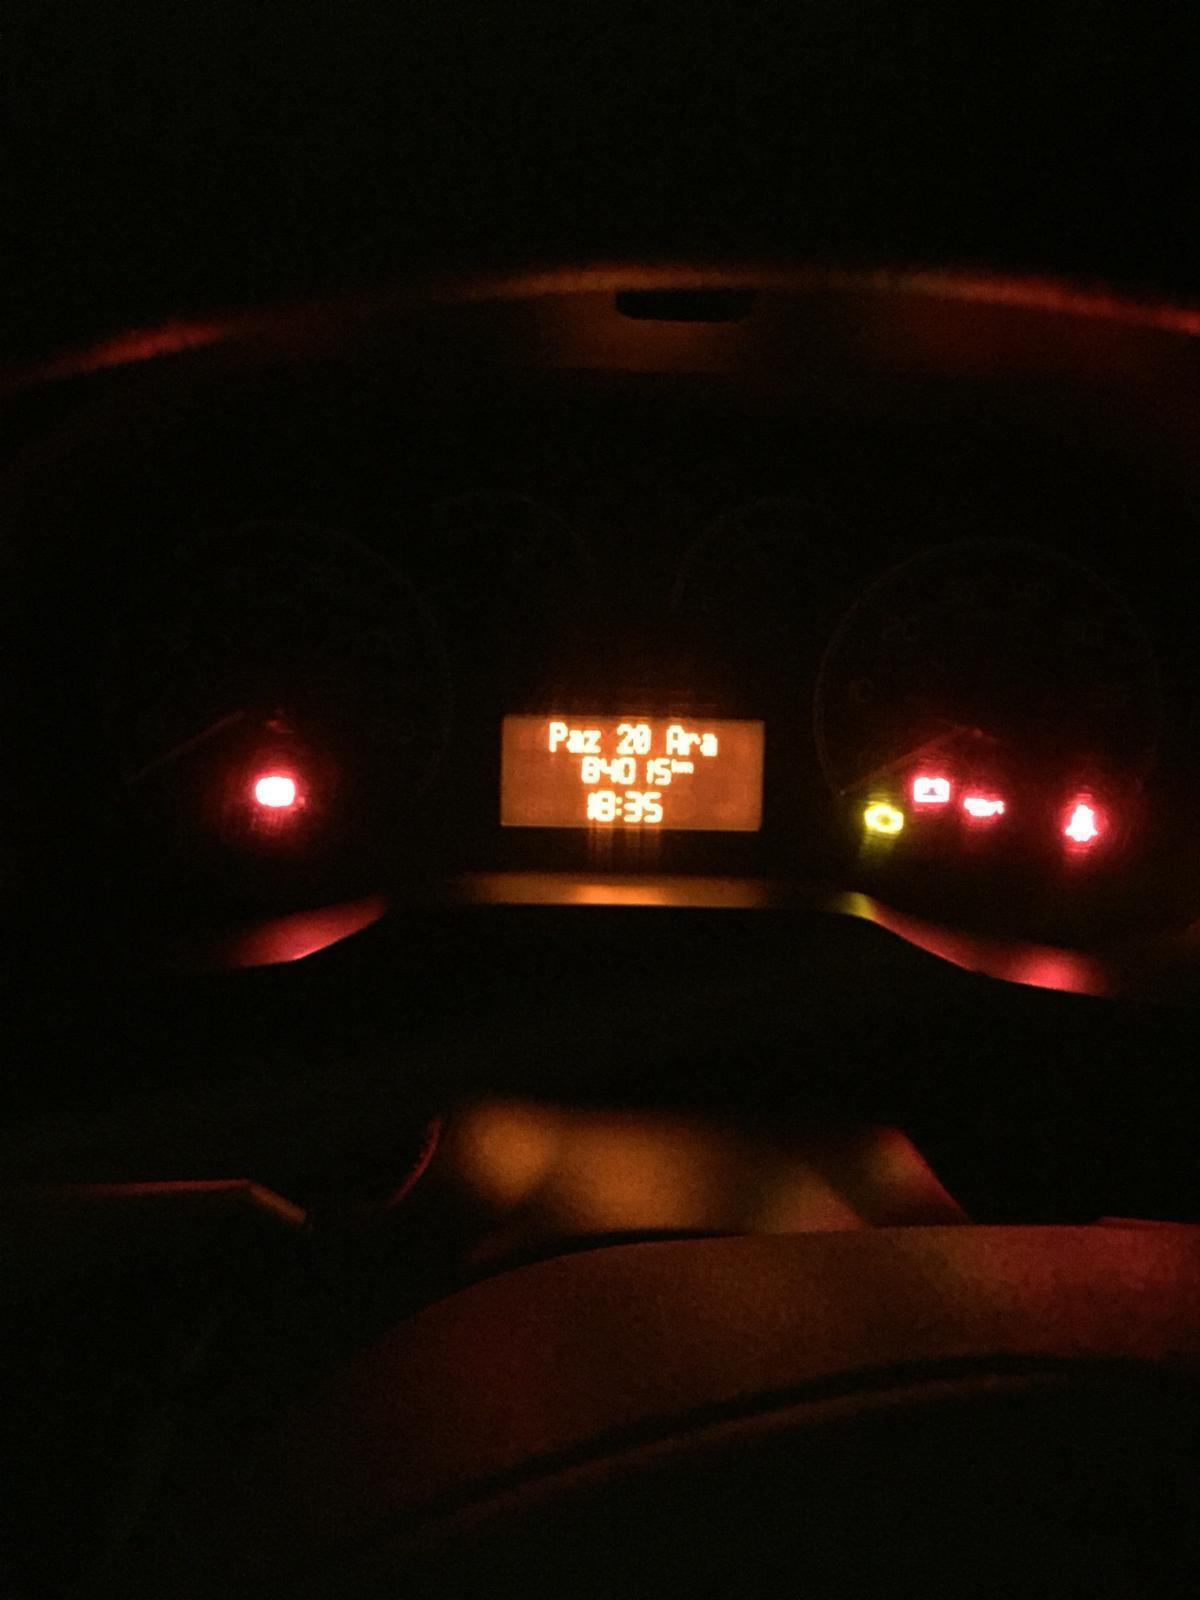0: (616, 756, 637, 786), (634, 724, 653, 753)
1: (587, 787, 595, 824), (645, 757, 653, 787)
2: (616, 722, 635, 756)
3: (623, 786, 642, 825)
4: (601, 756, 616, 784)
5: (643, 791, 663, 826), (653, 755, 672, 787)
8: (580, 753, 601, 786), (596, 787, 614, 823)
X: (548, 718, 567, 753), (667, 724, 684, 755), (584, 727, 603, 753), (567, 727, 584, 756), (701, 732, 718, 757), (684, 729, 700, 755), (682, 758, 695, 776), (614, 794, 621, 818), (672, 758, 682, 776)
odometer: (494, 711, 769, 837)
